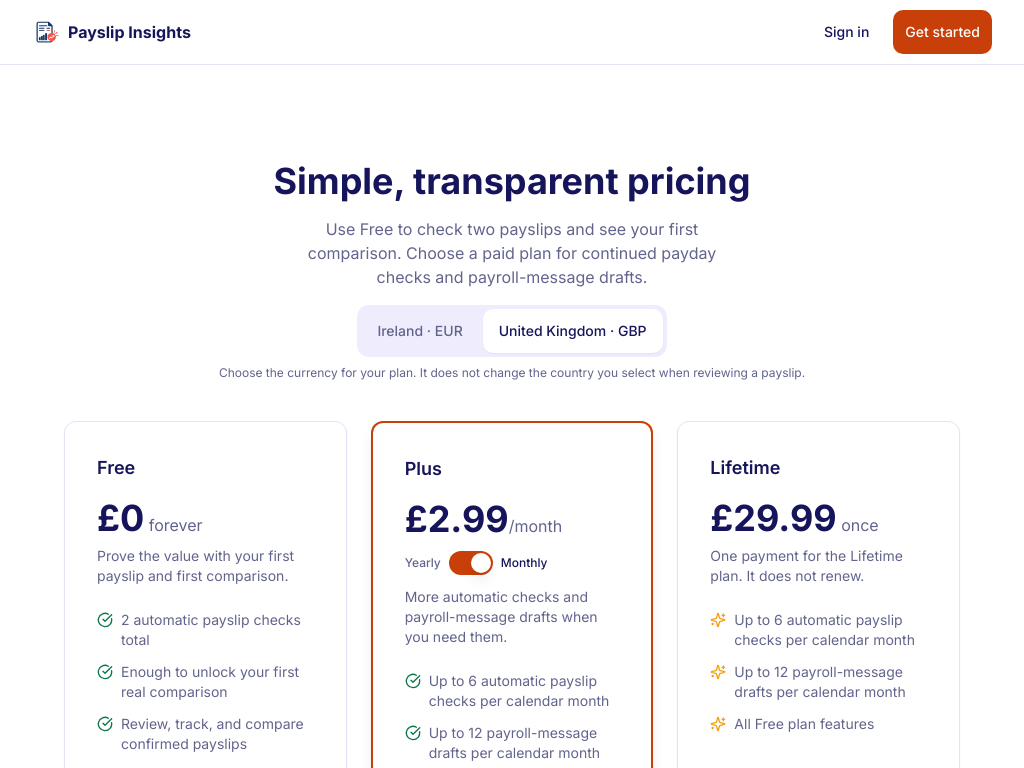
Test: Pricing › keeps a selected billing interval in the URL and restores it from a shared link
Expected: the text "£2.99" is shown, [405, 497, 509, 541]
What coordinates should you click on to do the following:
click the switch named "Use yearly Plus billing"
I would click on:
 (471, 563)
Its box is [449, 551, 493, 575].
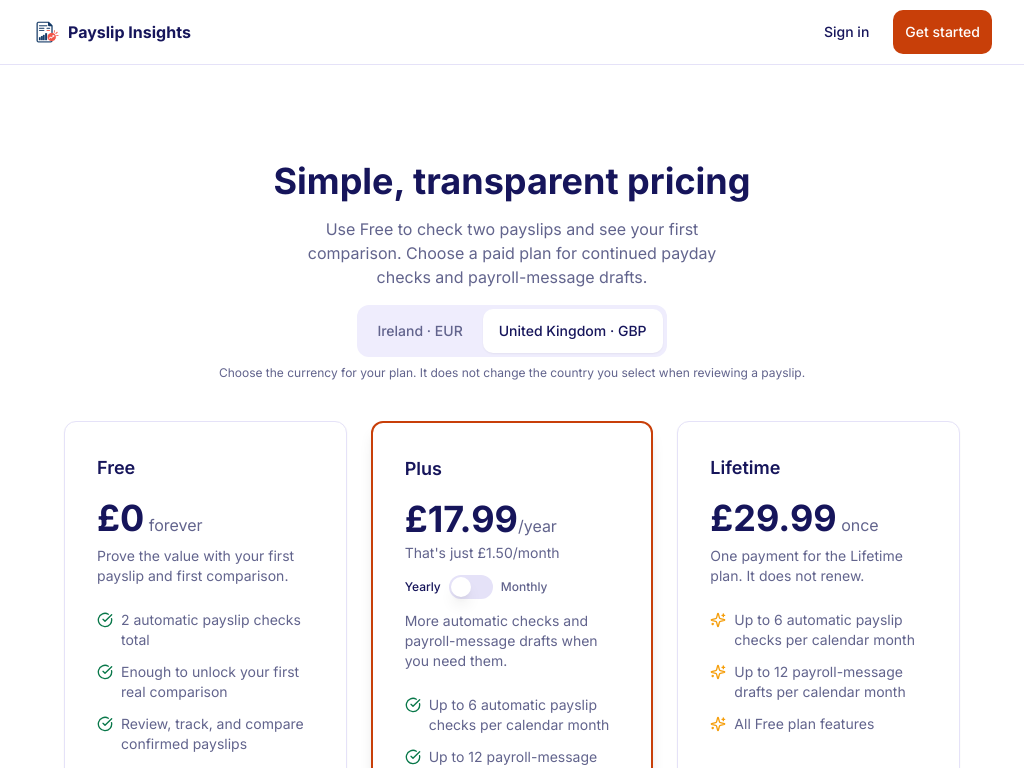
Expected: the text "£17.99" is shown, [405, 497, 518, 541]
